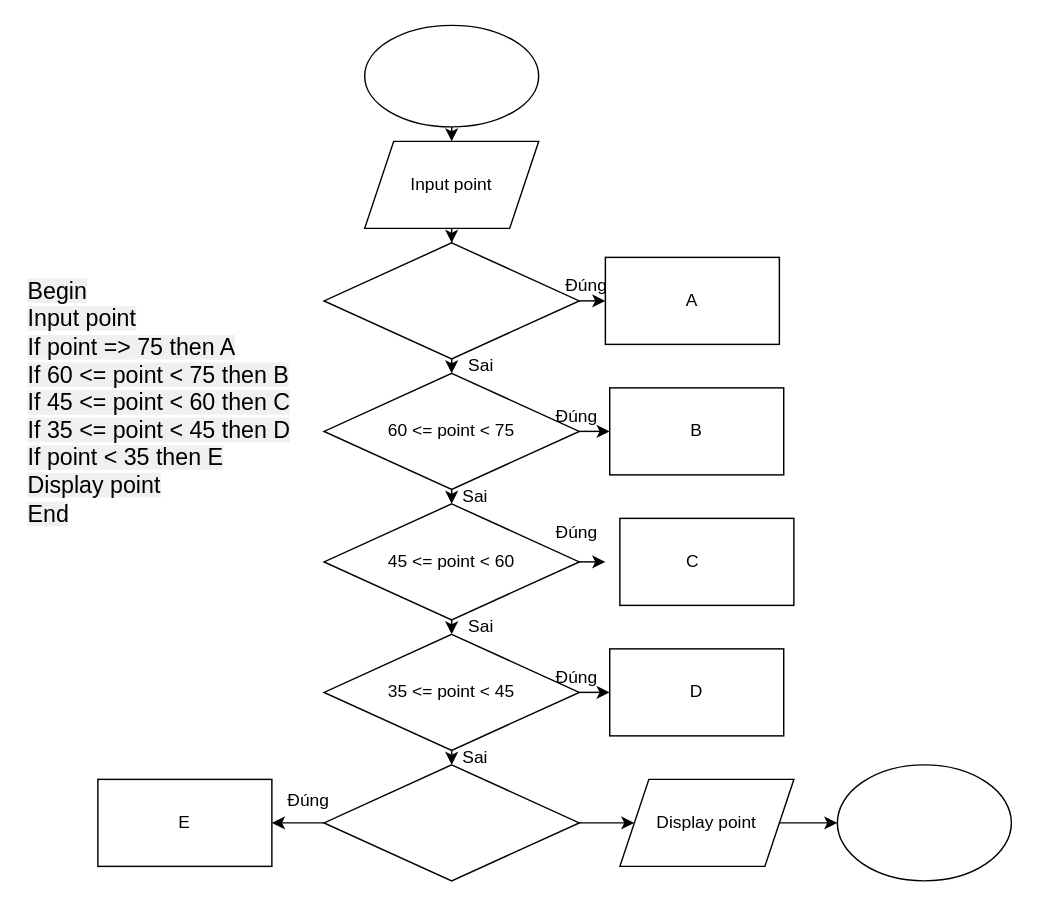
Image size: 1037x906. Some labels were removed from this diagram. The shapes that lost their labels are listed below. From the top down, each one's centre as x and y in pixels, then its label:
At point 451,75: "Begin".
At point 451,300: "point=> 75".
At point 451,822: "point < 35".
At point 923,822: "End".
